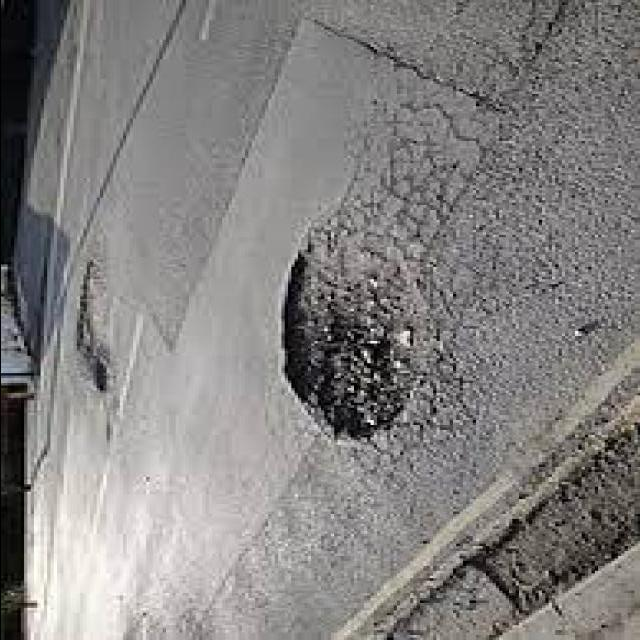pothole: (272, 193, 446, 468)
